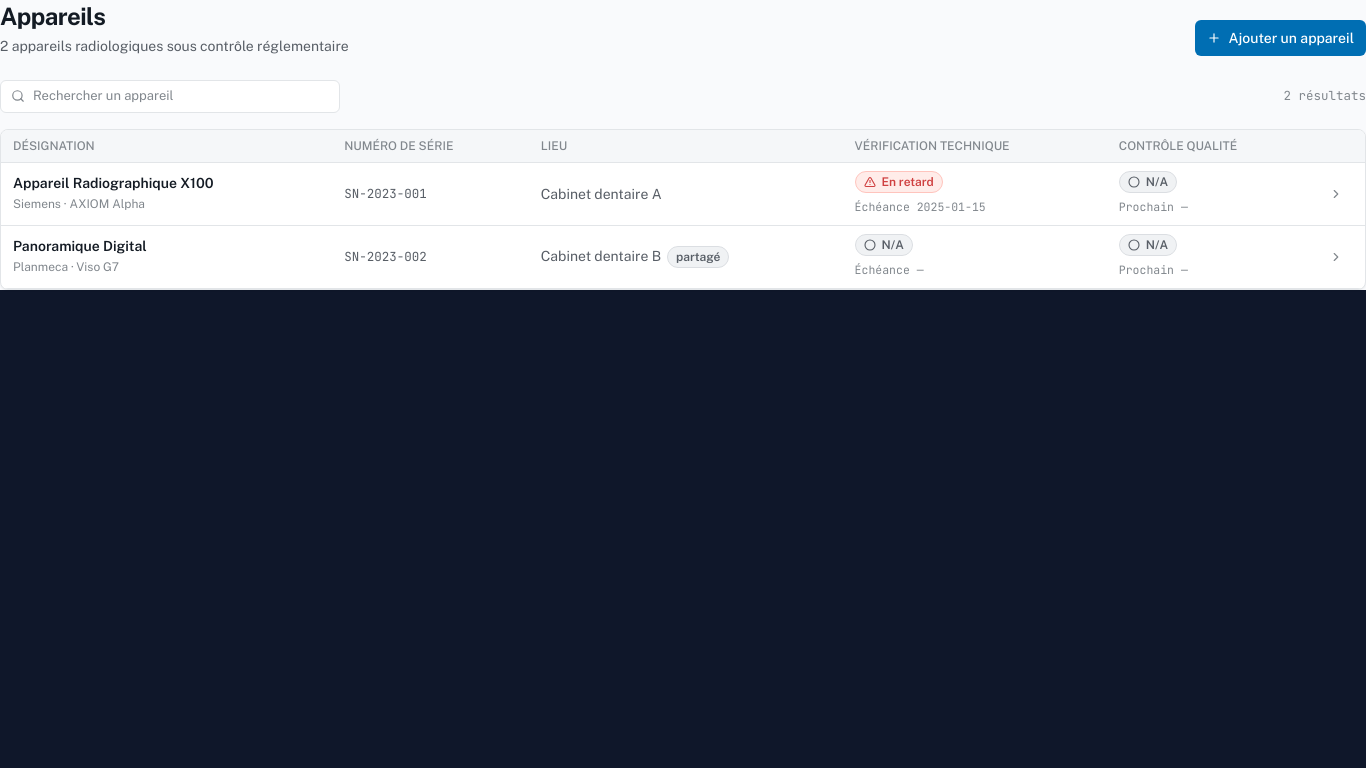
Test: AppareilsList › should open add modal when button is clicked
Step 1. Click the button "Ajouter un appareil" → (1280, 38), box left=1194, top=20, right=1365, bottom=56
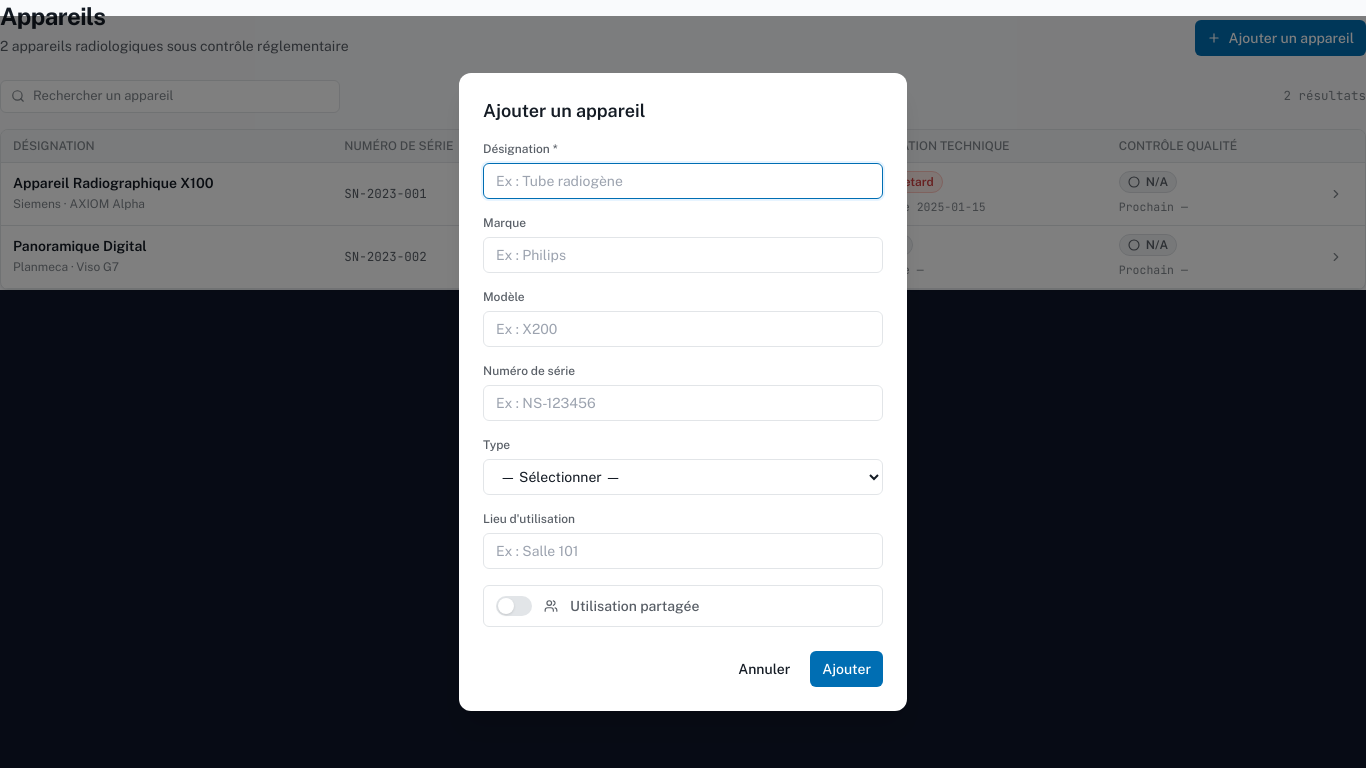
Check: the text "Désignation *" is shown, box left=483, top=142, right=558, bottom=156
